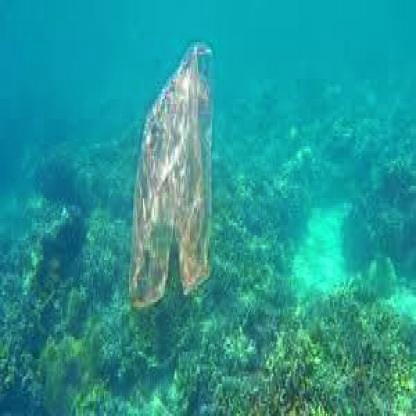pbag: (120, 29, 220, 310)
